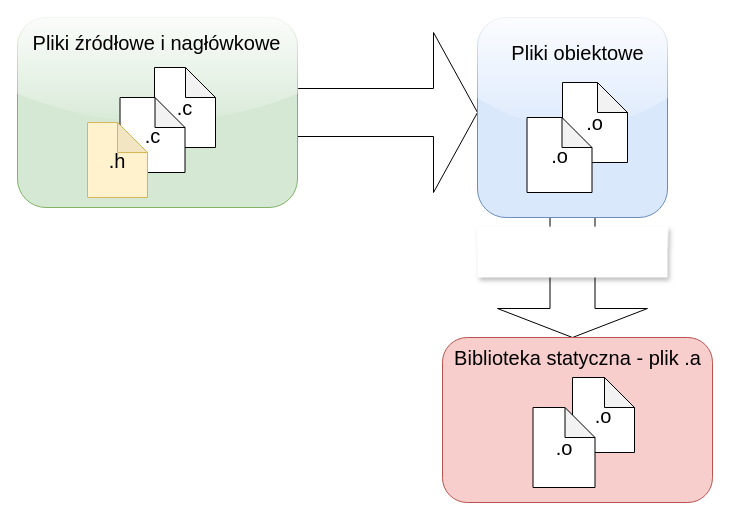
This 730x520 diagram has some shape labels left out. The shapes that lost their labels are listed below. From the top down, each one's centre as x and y in pixels, then its label:
At point (367, 112): "Kompilacja gcc -c *.c".
At point (573, 253): "Utworzenie archiwum ar -rc lib<nazwa>.a *.o".
